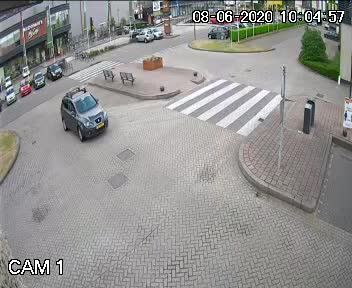car: (55, 83, 116, 156)
